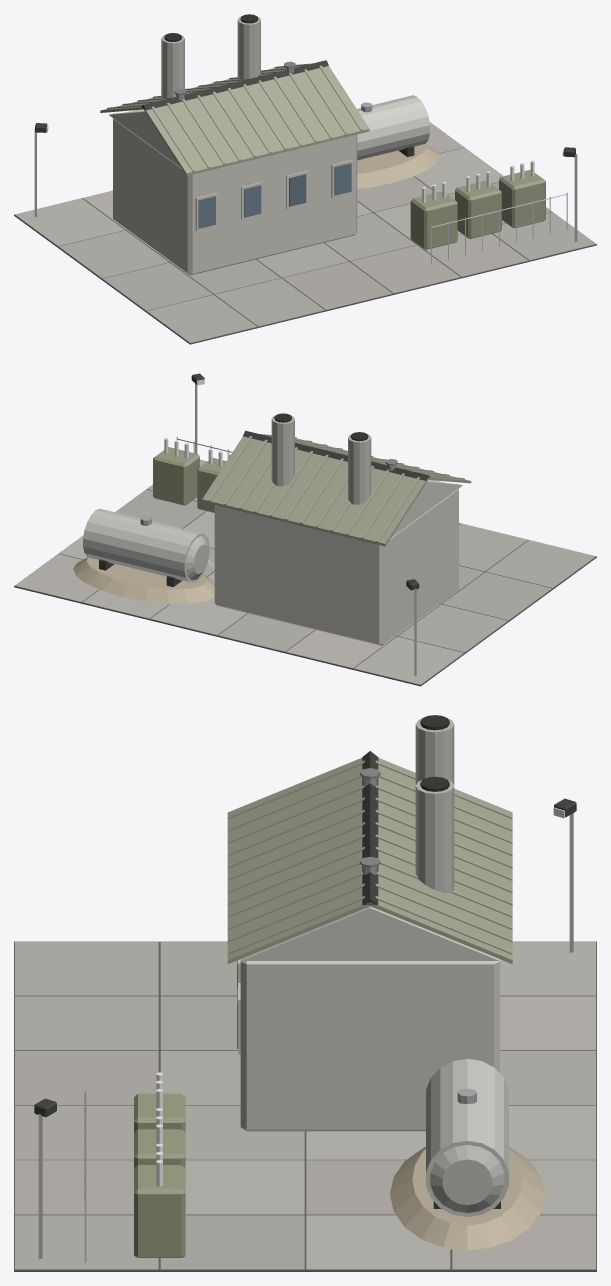
The model's file is b_power.glb.
3 renders of one model, top to bottom at view 1: azimuth 30°, elevation 25°; view 2: azimuth 150°, elevation 25°; view 3: azimuth 270°, elevation 25°, orthographic. The views are drawn at different scales.
Parts seen in each view (by area): view 1: hull; view 2: hull; view 3: hull.
Part boxes in pixels (left/top/right/bottom): hull: left=14, top=14, right=596, bottom=344; hull: left=14, top=373, right=596, bottom=686; hull: left=14, top=715, right=596, bottom=1271.
Bounding box in the file's own units: 24 × 10.6 × 18.
